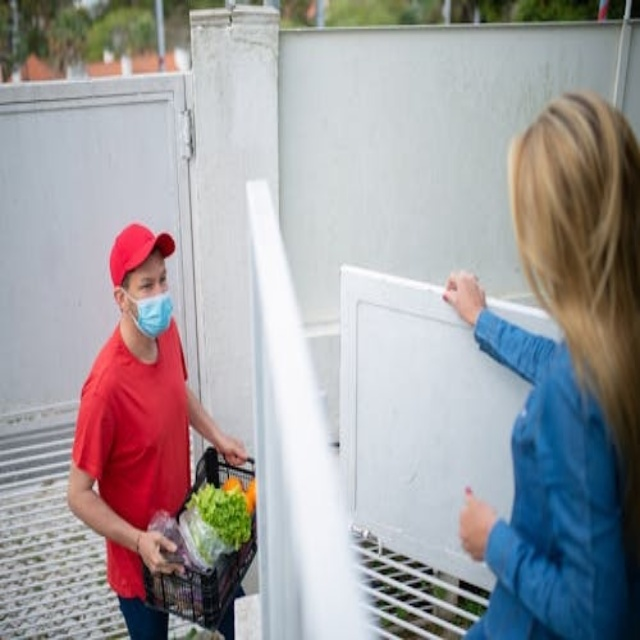Mascara: (123, 285, 174, 339)
Sin_gafas: (128, 259, 172, 297)
Sin_guantes: (458, 486, 495, 562), (442, 269, 486, 327), (140, 531, 184, 580), (217, 436, 250, 468)
